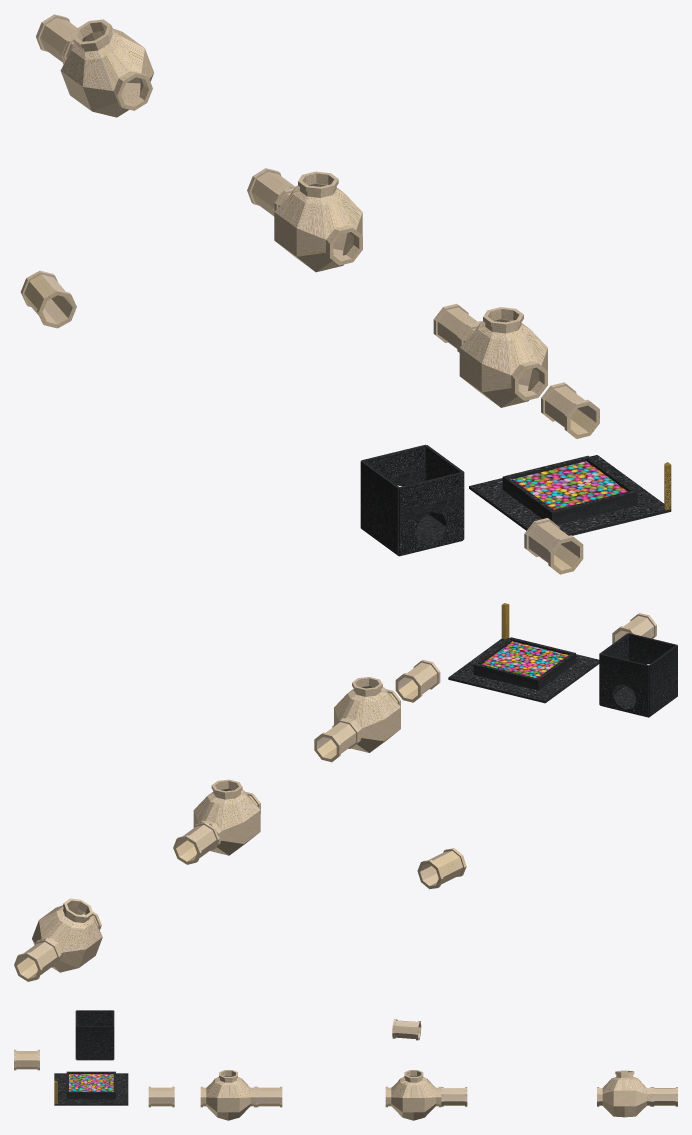
File: test1_modul.glb
3 views of the same model, one above another, from view 1: azimuth 30°, elevation 25°; view 2: azimuth 150°, elevation 25°; view 3: azimuth 270°, elevation 25° (orthographic). The views are drawn at different scales.
Parts seen in each view (by area): view 1: picine_boulle.001, tuillot_hub.001, tuillot_hub.002, tuillot_hub.003, tile.043, tile.032, tuillot.006, tuillot.001, tuillot.003, tile.041, tuillot.005, tuillot.002 (+2 smaller); view 2: picine_boulle.001, tuillot_hub.002, tuillot_hub.001, tuillot_hub.003, tile.041, tile.032, tuillot.003, tuillot.005, tuillot.004, tuillot.001, tuillot.002, tile.043 (+1 smaller); view 3: picine_boulle.001, tuillot_hub.002, tuillot_hub.001, tuillot_hub.003, tile.042, tile.032, tuillot.001, tuillot.002, tuillot.003, tuillot.006, tuillot.005, tuillot.004.
Boxes of the visible parts, x1,y1,x2,y2 form: picine_boulle.001: (469, 455, 671, 535); tuillot_hub.001: (459, 307, 547, 407); tuillot_hub.002: (274, 171, 362, 272); tuillot_hub.003: (60, 19, 154, 117); tile.043: (399, 472, 463, 555); tile.032: (360, 461, 399, 555); tuillot.006: (524, 518, 583, 574); tuillot.001: (541, 382, 599, 438); tuillot.003: (20, 270, 76, 328); tile.041: (361, 444, 425, 486); tuillot.005: (247, 168, 295, 216); tuillot.002: (433, 303, 481, 352); picine_boulle.001: (448, 637, 599, 703); tuillot_hub.002: (193, 779, 260, 855); tuillot_hub.001: (334, 677, 400, 752); tuillot_hub.003: (32, 898, 102, 972); tile.041: (599, 653, 648, 716); tile.032: (648, 645, 677, 716); tuillot.003: (417, 848, 466, 889); tuillot.005: (173, 822, 219, 864); tuillot.004: (14, 939, 60, 981); tuillot.001: (395, 660, 440, 702); tuillot.002: (314, 719, 358, 762); tile.043: (628, 633, 677, 664); picine_boulle.001: (54, 1071, 128, 1105); tuillot_hub.002: (385, 1070, 441, 1120); tuillot_hub.001: (200, 1070, 256, 1120); tuillot_hub.003: (597, 1070, 652, 1117); tile.042: (76, 1026, 113, 1059); tile.032: (76, 1010, 113, 1025); tuillot.001: (148, 1086, 174, 1107); tuillot.002: (256, 1086, 282, 1107); tuillot.003: (392, 1019, 421, 1040); tuillot.006: (14, 1049, 39, 1070); tuillot.005: (441, 1087, 467, 1106); tuillot.004: (652, 1087, 677, 1106).
Size of the model in its own units: 52.11 by 12.9 by 179.
Materials: 4 (4 with a texture image).
